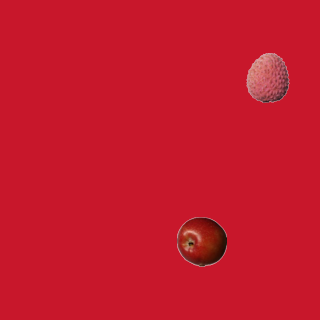Apple Braeburn: (176, 216, 226, 266)
Lychee: (242, 52, 292, 102)
